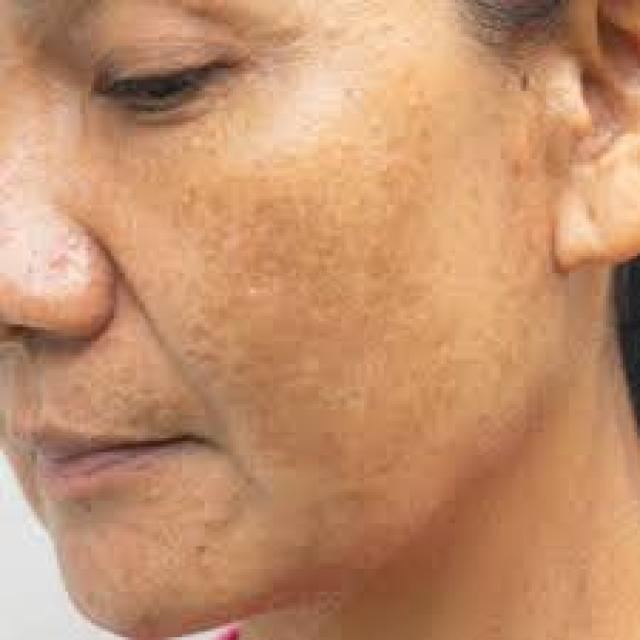pigmentation: (203, 161, 452, 296)
